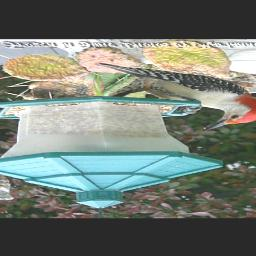Woodpecker: (94, 63, 256, 131)
